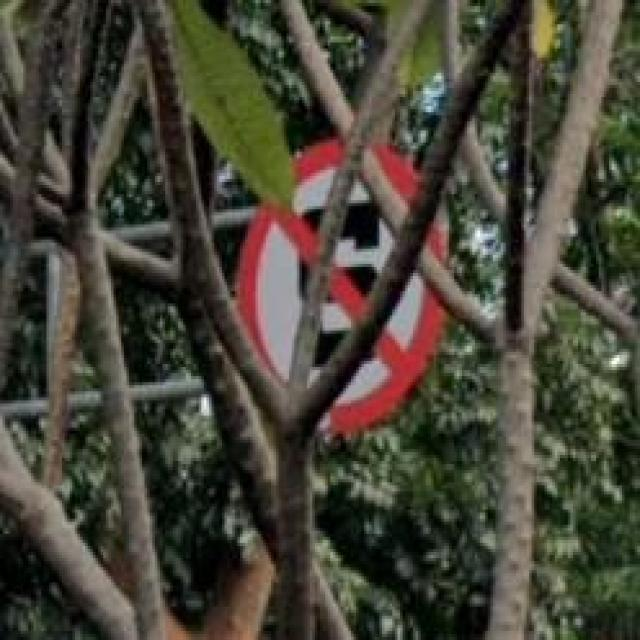traffic sign: (235, 137, 452, 431)
